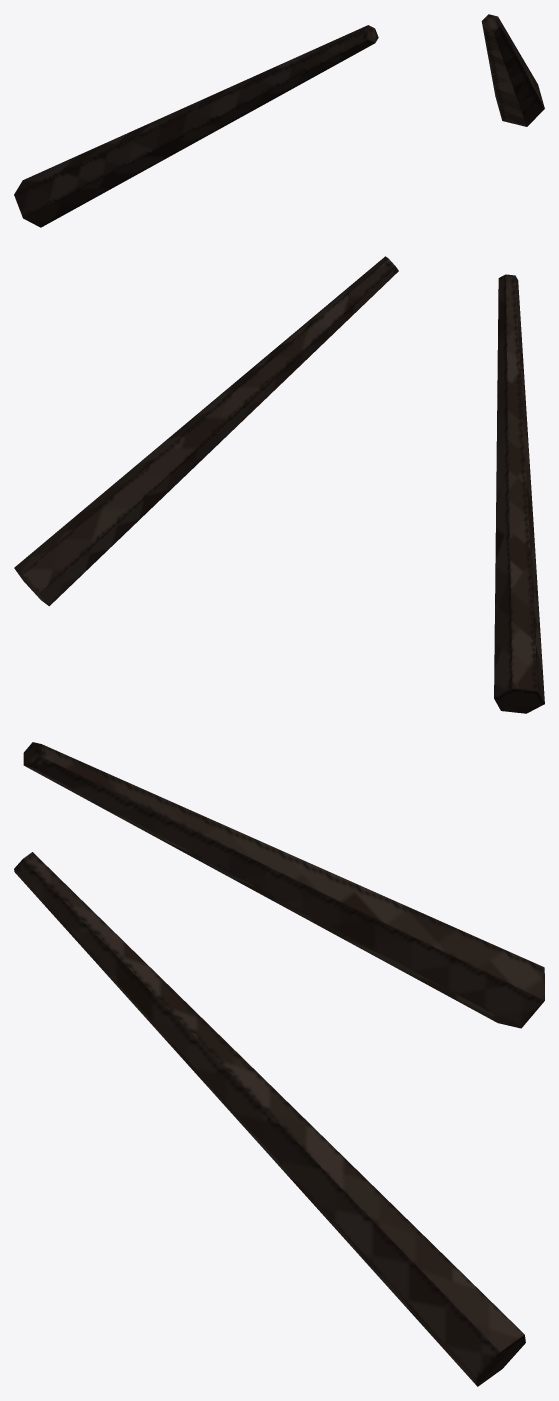
Rendered from deadzone_chembrane_ruin_roots.obj.
3 views of the same model, one above another, from view 1: azimuth 30°, elevation 25°; view 2: azimuth 150°, elevation 25°; view 3: azimuth 270°, elevation 25° (orthographic). The views are drawn at different scales.
Size of the model in its own units: 6.05 by 3.18 by 3.63.
1 material, 1 textured.
